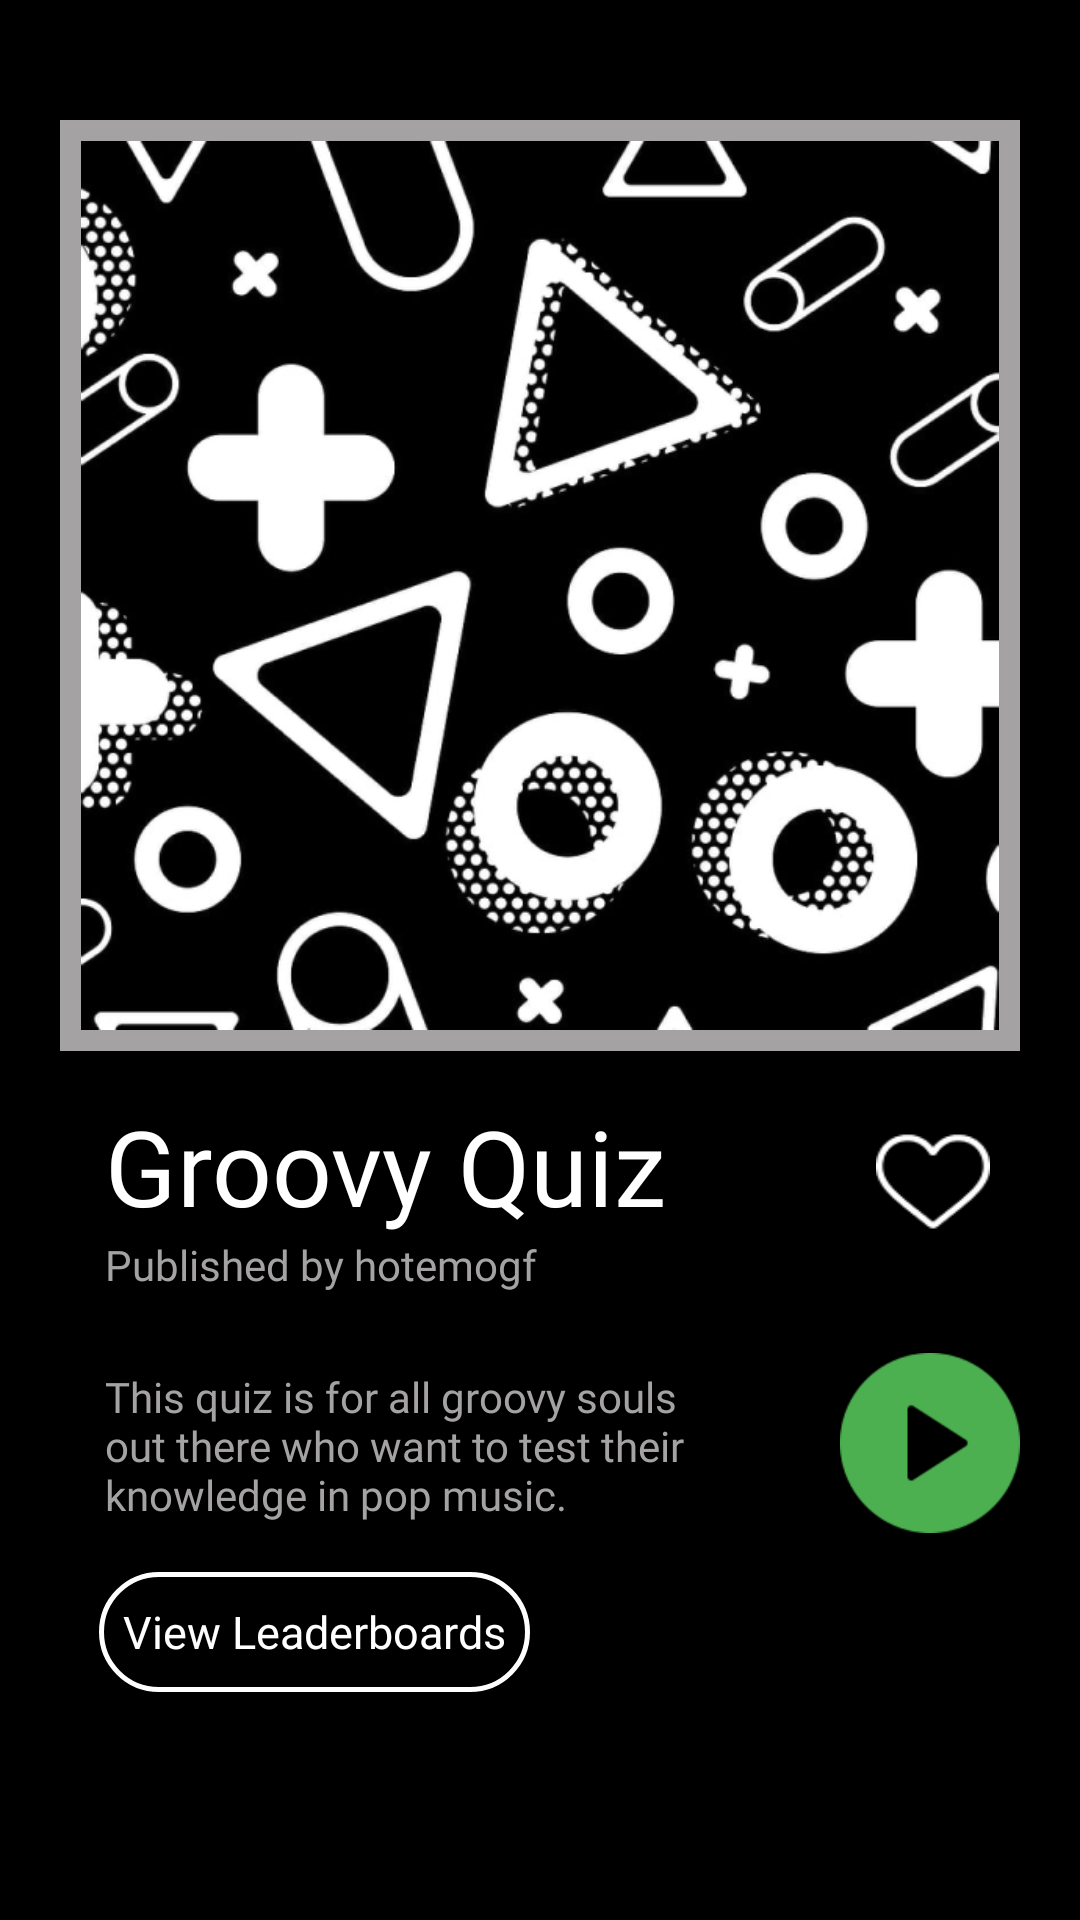

Icon bounding boxes for this 1080*1920 phone screenshot, format (x1, y1, x2, y2):
heart: (876, 1134, 990, 1229)
play: (840, 1353, 1020, 1533)
